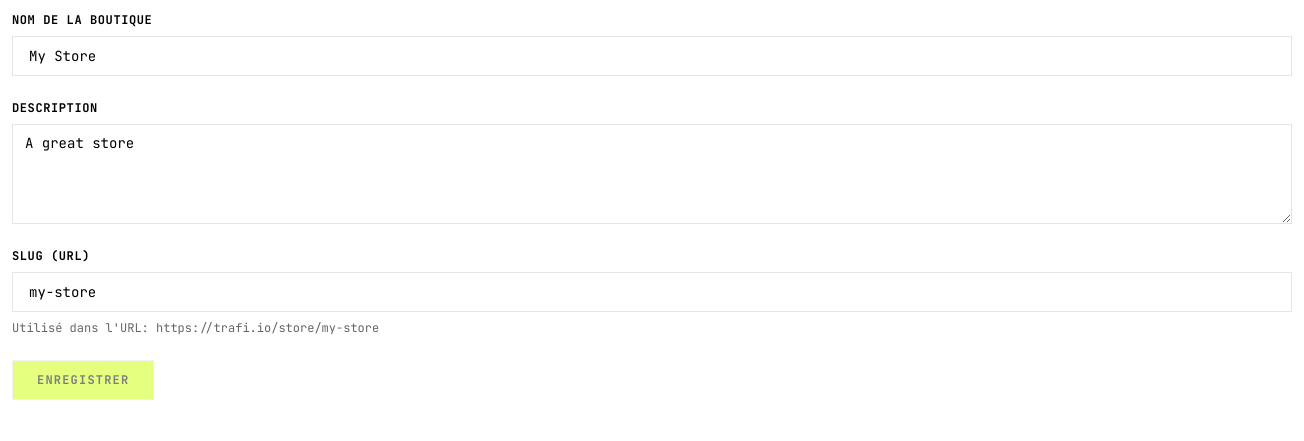
it: GeneralSettingsForm › Form Validation › should show error for invalid slug format
This screenshot has width=1304, height=441.
Note: Enter invalid slug with spaces (gets lowercased but spaces make it invalid)
Step 1. Replace the text in the field with test id "settings-slug-input" with "invalid slug with spaces" → (652, 292), box [12, 272, 1292, 312]
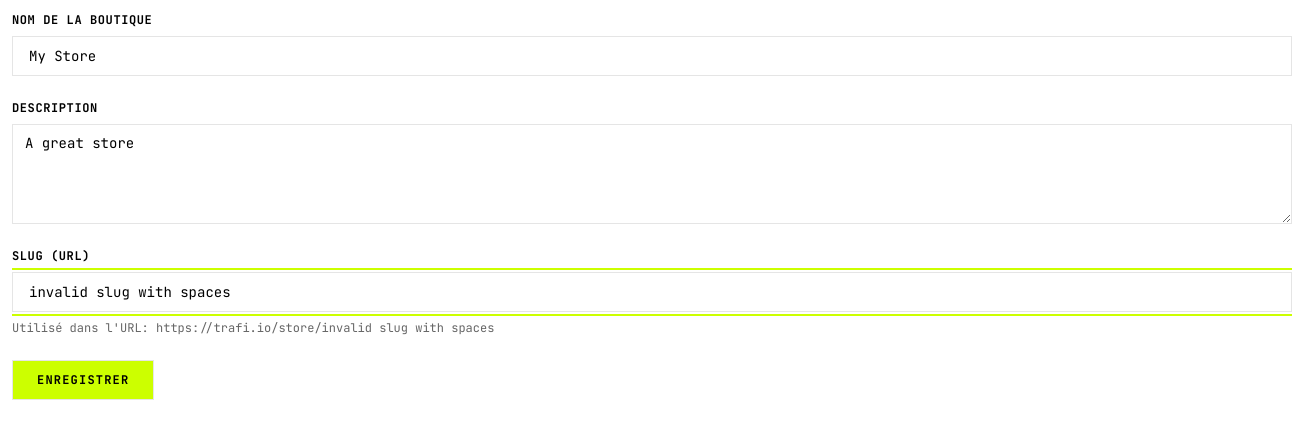
Step 2. Press Tab
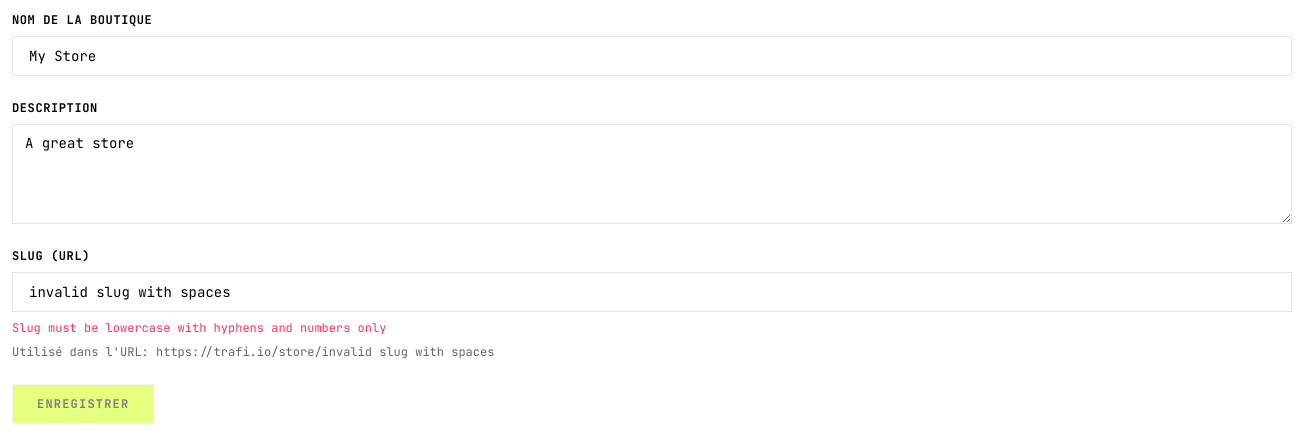
Expected: the text "Slug must be lowercase with hyphens and numbers only" is shown, [12, 320, 386, 336]
